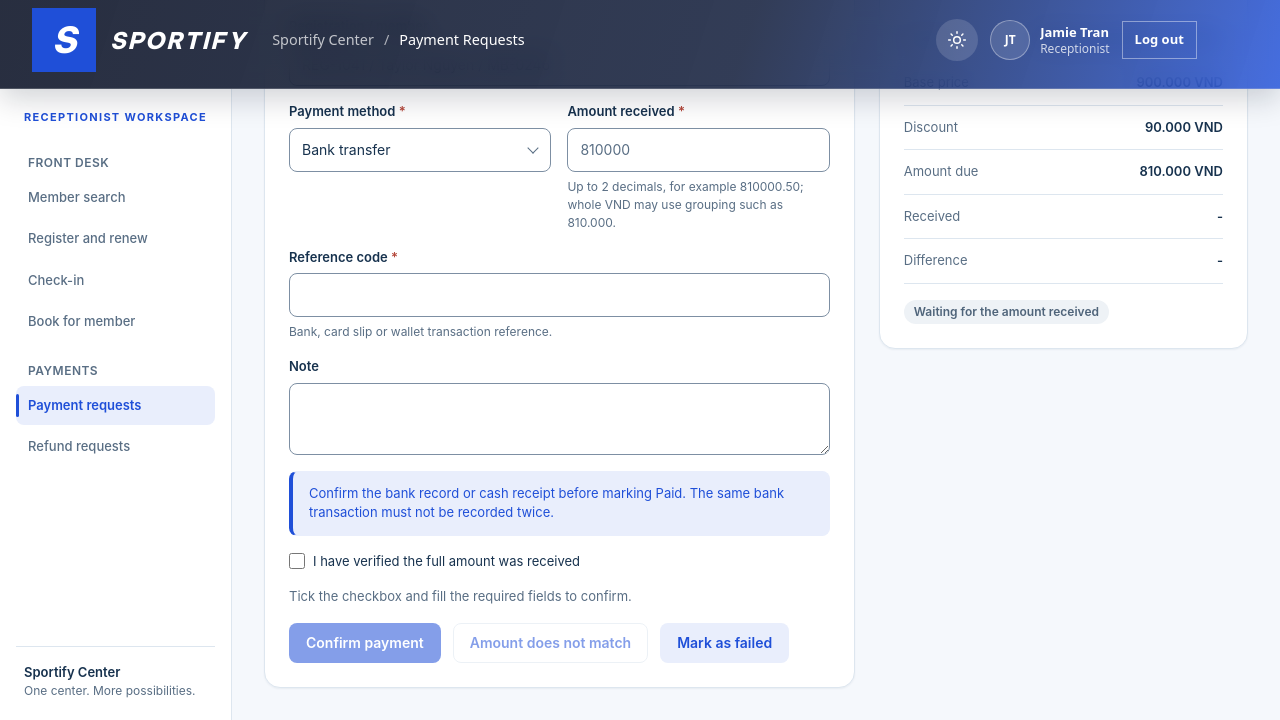
Test: FE-12 Verify and Record Payment (F3-05) › TC-FE12-034 Mark as failed needs a reason and sends PUT /payments/{id}/fail
The width and height of the screenshot is (1280, 720).
(page scrolled)
Click the button "Mark as failed" at (725, 643), box 660,623 -> 789,663
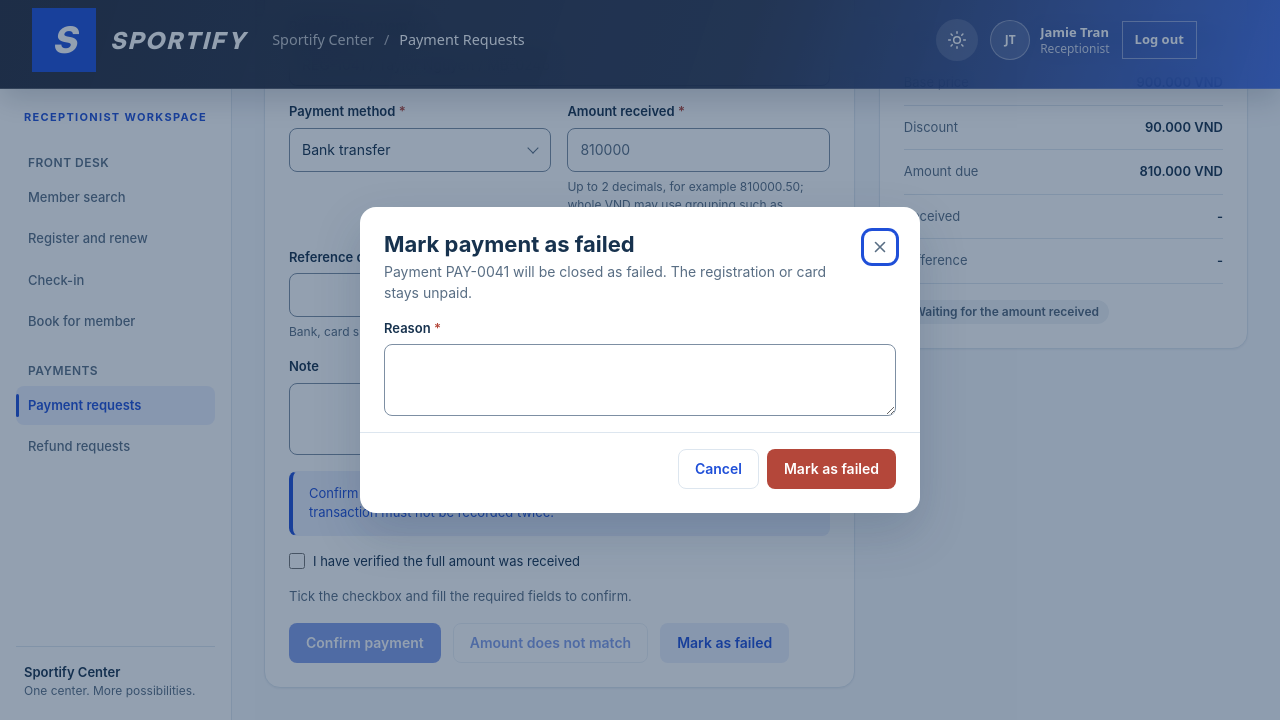
Click the button "Mark as failed" at (831, 469), box 767,449 -> 896,489
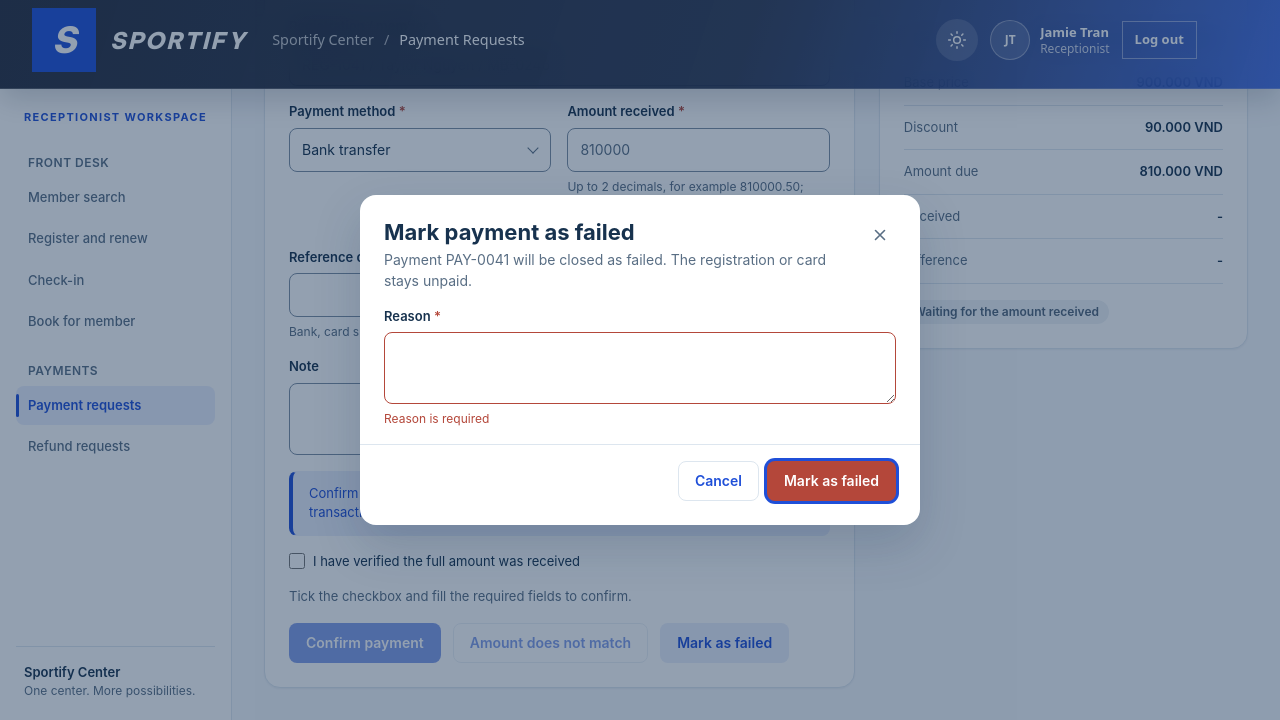
Expected: the text "Reason is required" is shown, 384,411 -> 489,426
Type "Transfer not found in the bank statement" into the text box labelled "Reason *" at (640, 368), box 384,332 -> 896,404
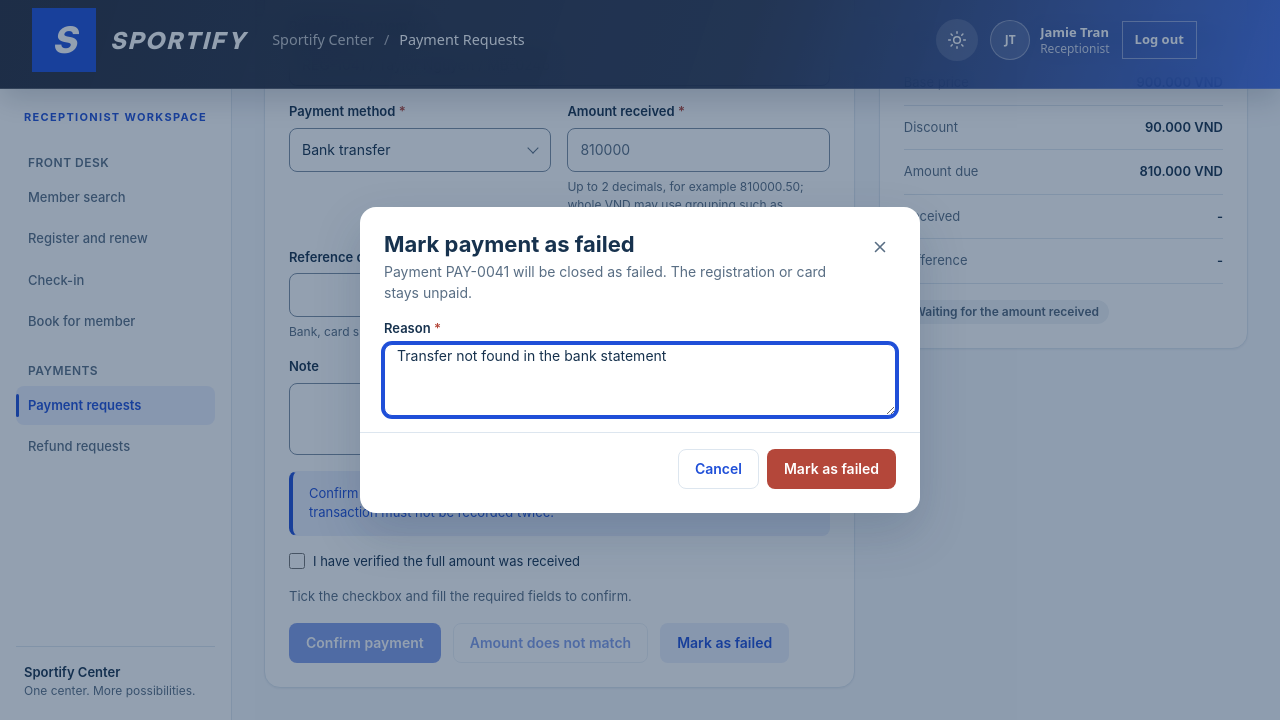
Click the button "Mark as failed" at (831, 469), box 767,449 -> 896,489
(page scrolled)
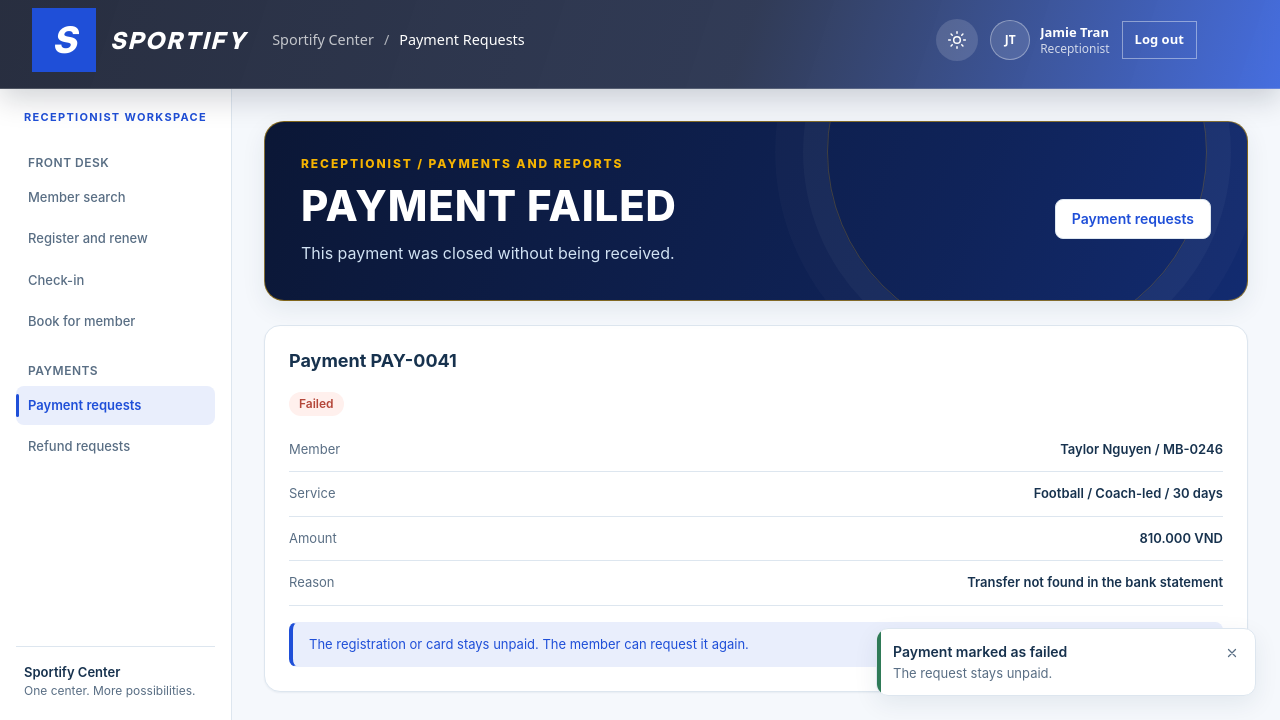
Expected: the heading "Payment Failed" is shown, 301,180 -> 677,231
Expected: the text "Transfer not found in the bank statement" is shown, 967,573 -> 1223,593
